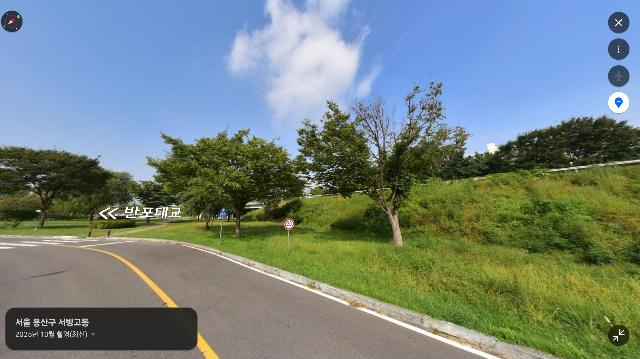other: (293, 79, 474, 249), (145, 123, 307, 239), (0, 144, 114, 232), (494, 114, 640, 177), (97, 166, 146, 223), (131, 178, 181, 226)
